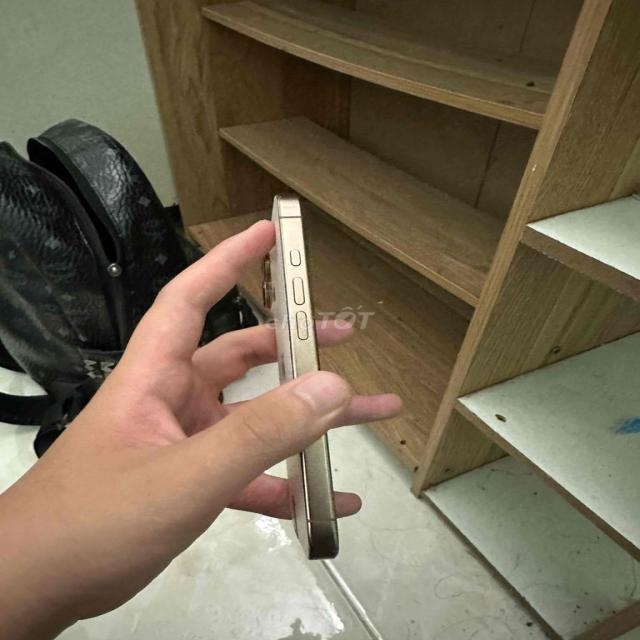gen_16: (248, 176, 368, 563)
